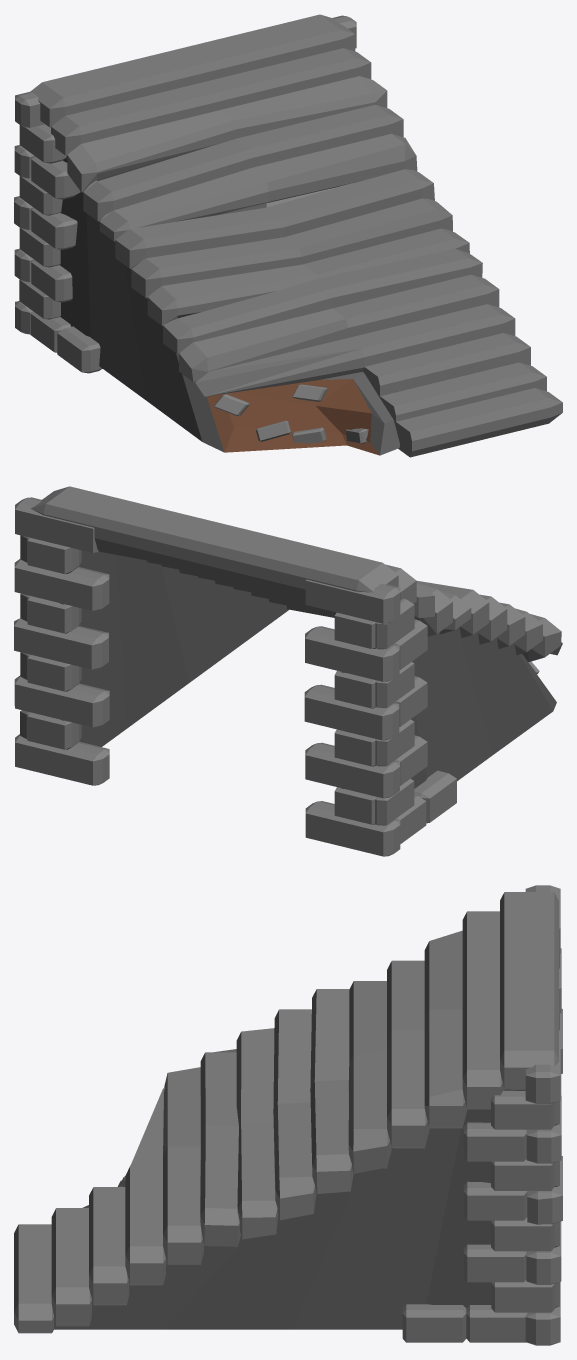
File: DungeonStairsBroken.fbx
3 renders of one model, top to bottom at view 1: azimuth 30°, elevation 25°; view 2: azimuth 150°, elevation 25°; view 3: azimuth 270°, elevation 25°, orthographic. The views are drawn at different scales.
Parts seen in each view (by area): view 1: DungeonStairsBroken; view 2: DungeonStairsBroken; view 3: DungeonStairsBroken.
Boxes of the visible parts, <box> form: DungeonStairsBroken: <box>14,14,562,457</box>; DungeonStairsBroken: <box>14,486,562,856</box>; DungeonStairsBroken: <box>14,885,562,1345</box>.
Size of the model in its own units: 561 by 387 by 679.
1 material, 1 textured.
